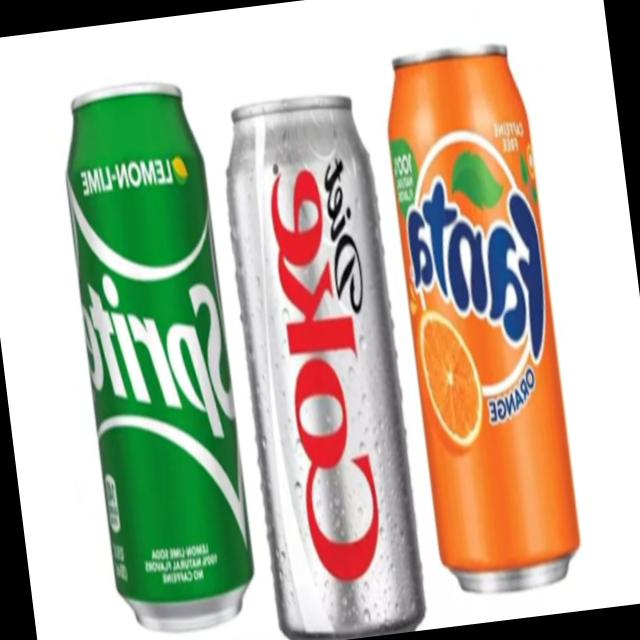sprite: (40, 84, 273, 640)
